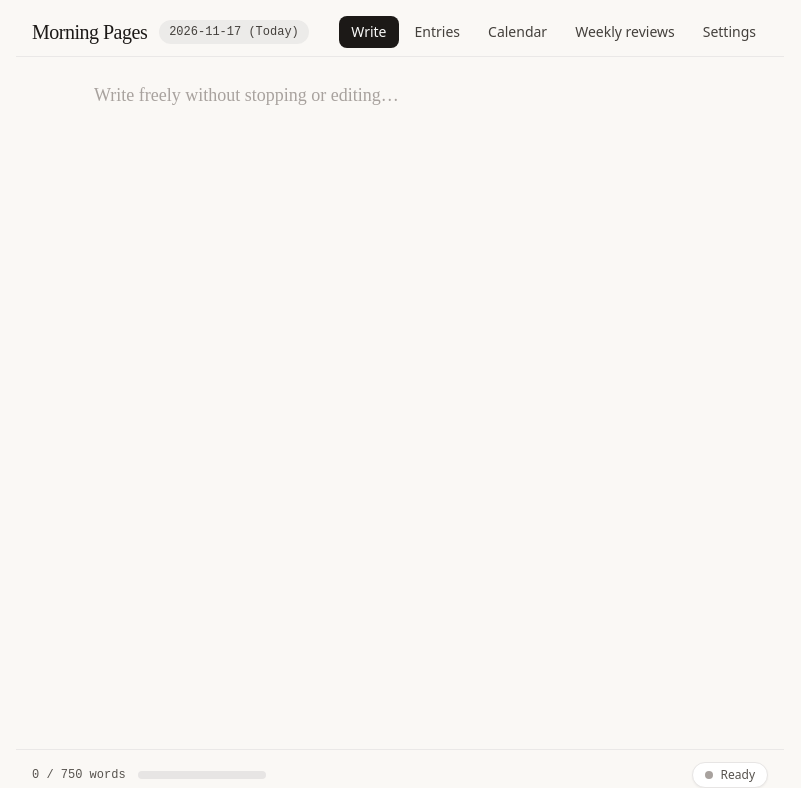
it: Brief 6: Frontend Settings UI, Permission Explanation & Push Subscription Flow › provides a "Download all my entries" button in Settings with a progress/spinner state for long downloads
Later steps or results of the test are not shown.
Click the button "Settings": [729, 32] box [691, 16, 768, 48]
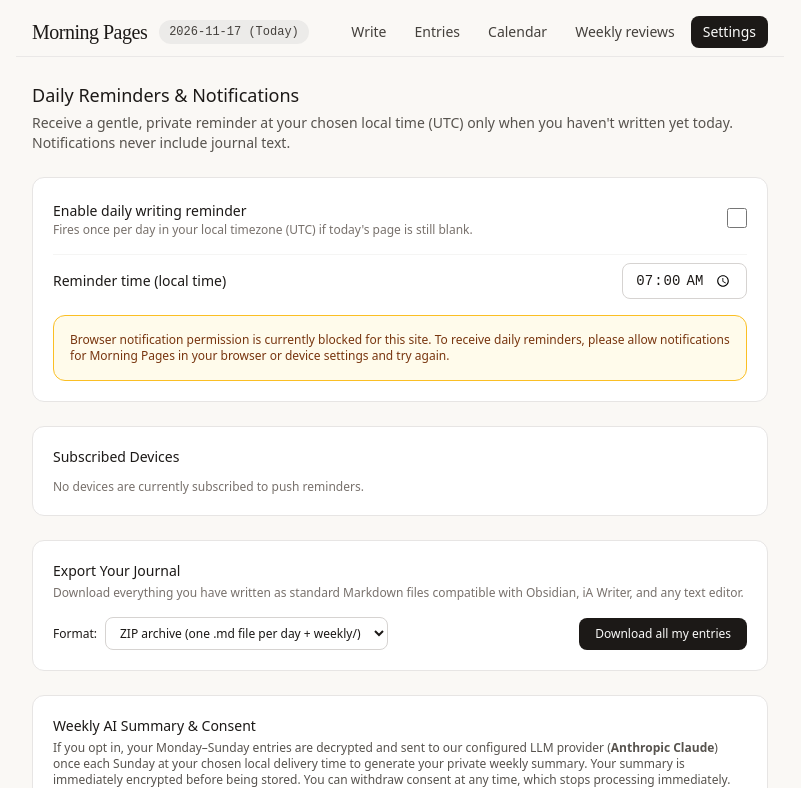
Click the button "Download all my entries": [663, 634] box [579, 618, 747, 650]
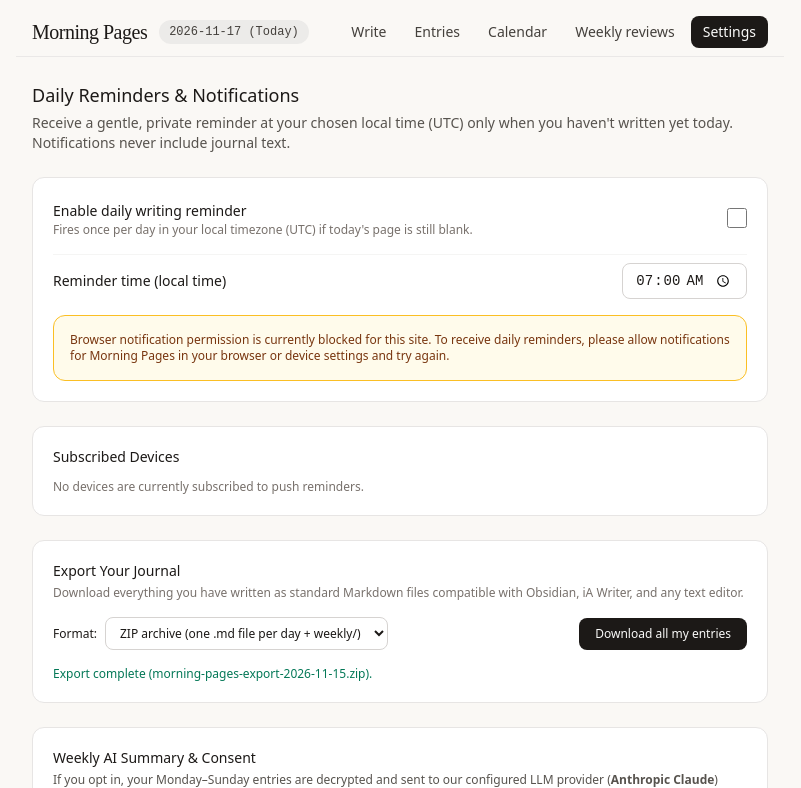
Now the text "Export complete (morning-pages-export-2026-11-15.zip)." is shown, box [53, 665, 372, 682]
